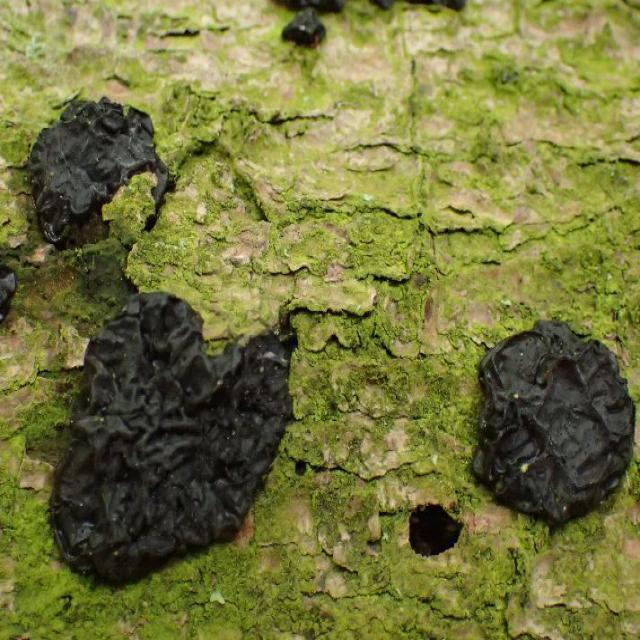Auricularia auricula: (53, 289, 295, 605), (471, 331, 635, 525), (27, 96, 166, 240)
